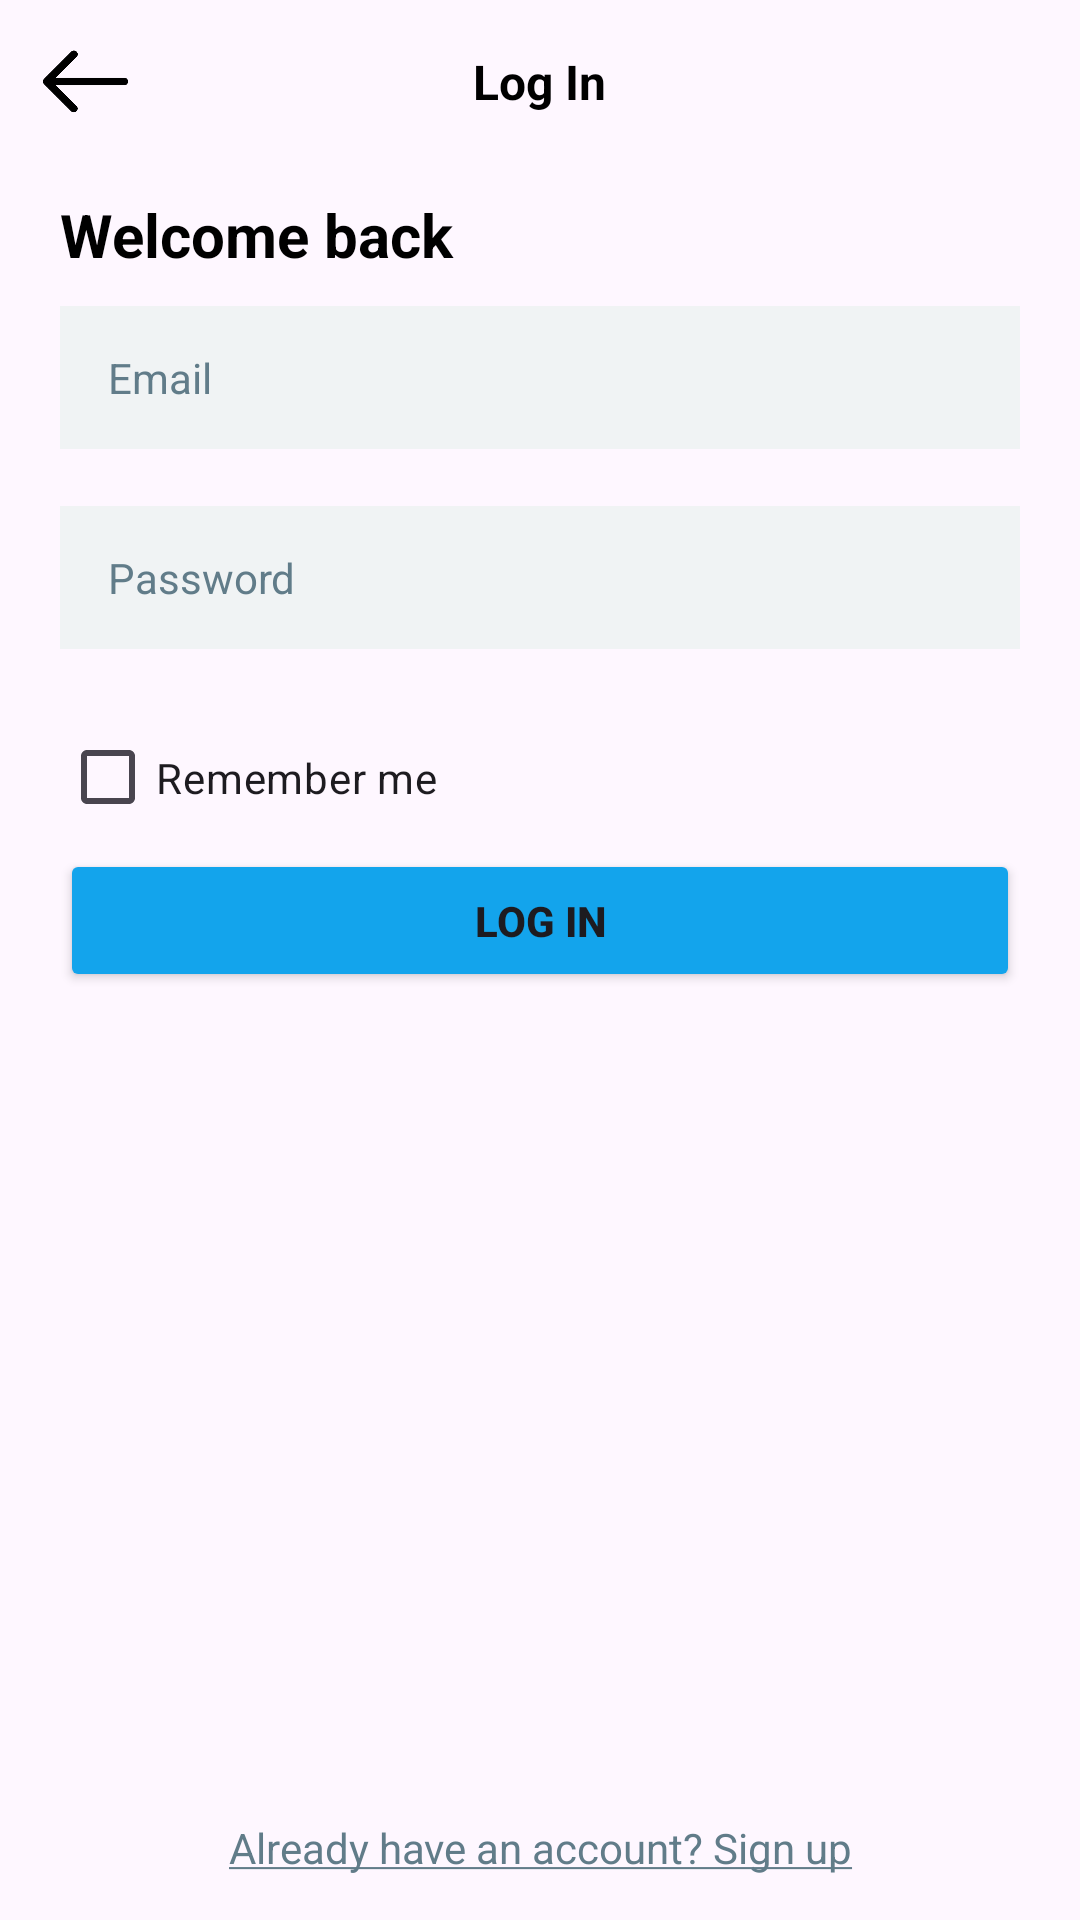

Where icons sit on this 1080px x 1920px app screen, as bbox=[x1, y1, x2, y2]:
arrow back: bbox=[43, 50, 128, 112]
